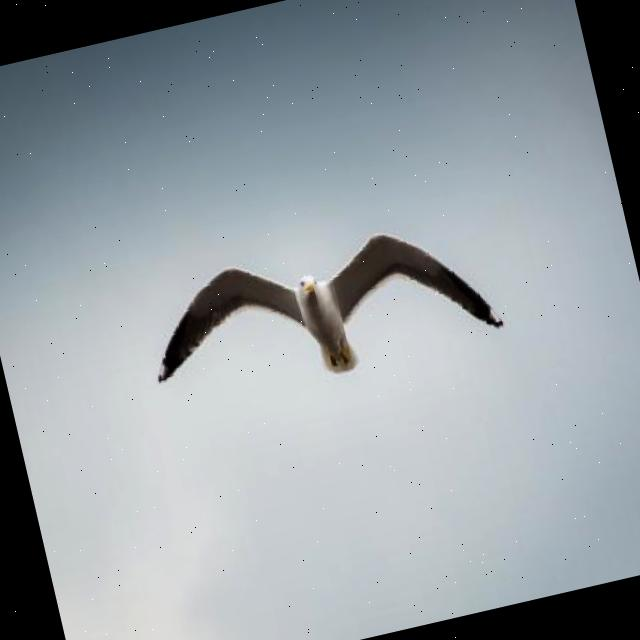bird: (132, 207, 508, 419)
